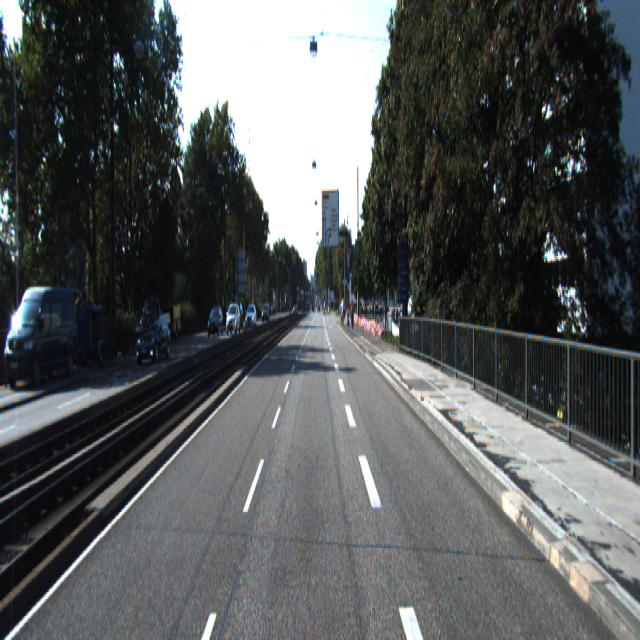Car: (4, 281, 80, 388), (78, 300, 110, 369), (135, 313, 174, 368), (139, 292, 171, 346), (206, 306, 225, 337), (167, 303, 181, 339), (226, 304, 241, 334)
